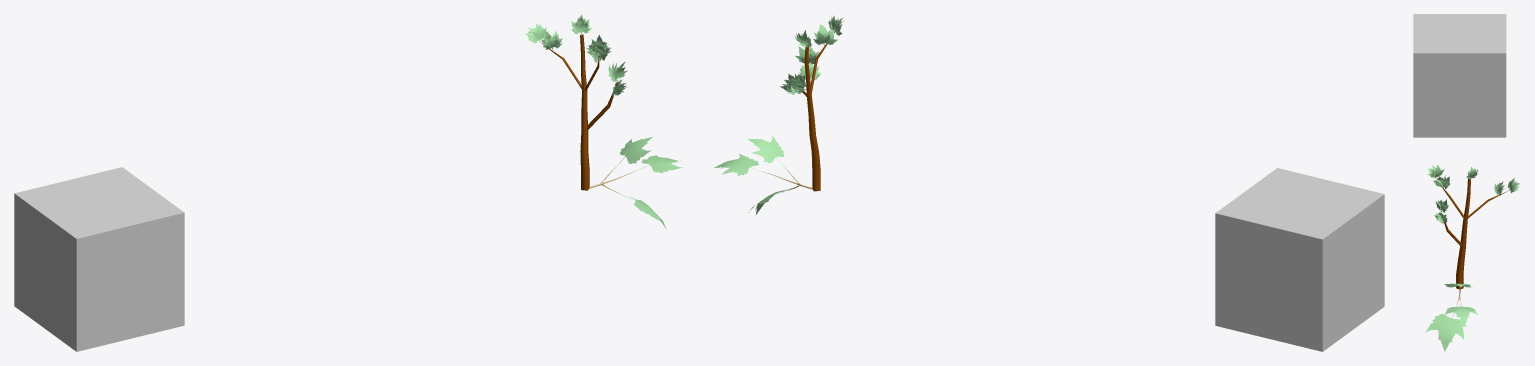
The model's file is FinalTree9.fbx.
3 views of the same model, side by side, from view 1: azimuth 30°, elevation 25°; view 2: azimuth 150°, elevation 25°; view 3: azimuth 270°, elevation 25° (orthographic). The views are drawn at different scales.
Visible parts, largest first — view 1: Cube, Árbol; view 2: Cube, Árbol, palmate.003; view 3: Cube, Árbol, palmate.002, palmate.001, palmate.003.
Part boxes in pixels (left/top/right/bottom): Cube: left=14, top=167, right=184, bottom=351; Árbol: left=540, top=34, right=618, bottom=190; Cube: left=1215, top=168, right=1384, bottom=351; Árbol: left=802, top=33, right=834, bottom=191; palmate.003: left=747, top=135, right=783, bottom=166; Cube: left=1413, top=14, right=1506, bottom=137; Árbol: left=1436, top=178, right=1508, bottom=289; palmate.002: left=1425, top=312, right=1466, bottom=351; palmate.001: left=1445, top=304, right=1477, bottom=323; palmate.003: left=1444, top=283, right=1472, bottom=288.
Size of the model in its own units: 1185 by 383 by 231.
